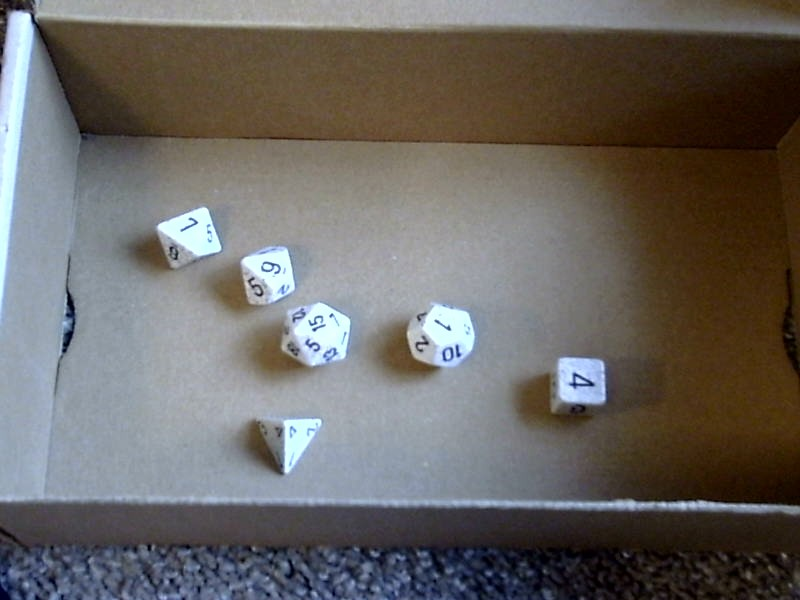d10 9: (232, 241, 299, 307)
d12 1: (398, 294, 482, 377)
d20 15: (277, 302, 354, 376)
d4 4: (243, 411, 322, 480)
d6 4: (541, 349, 612, 426)
d8 7: (147, 203, 226, 280)
